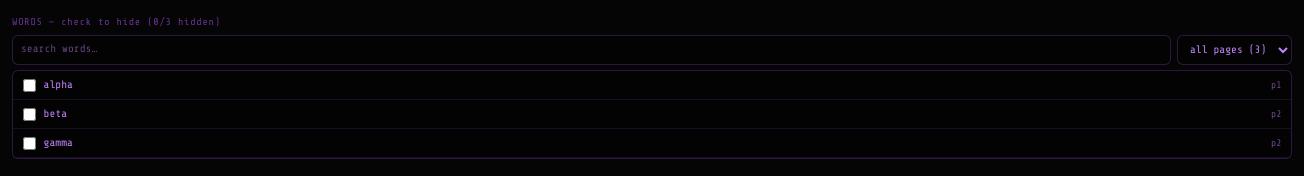
it: <WordSelect> › narrows the list to one page
Step 1. Select "page 2 (2)" in the dropdown named "filter words by page" → (1234, 50), box [1177, 35, 1292, 65]
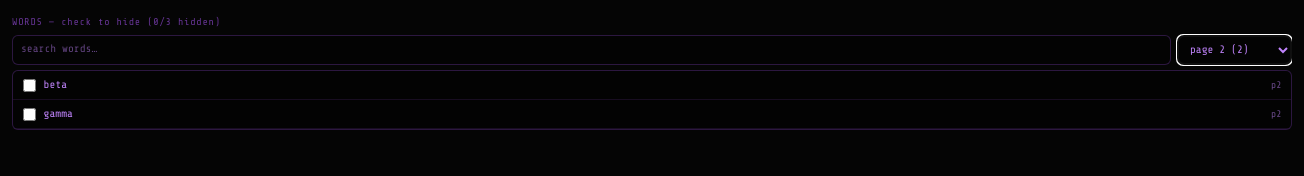
Expected: the text "beta" is shown, [44, 78, 67, 91]
Result: the text "alpha" is gone
